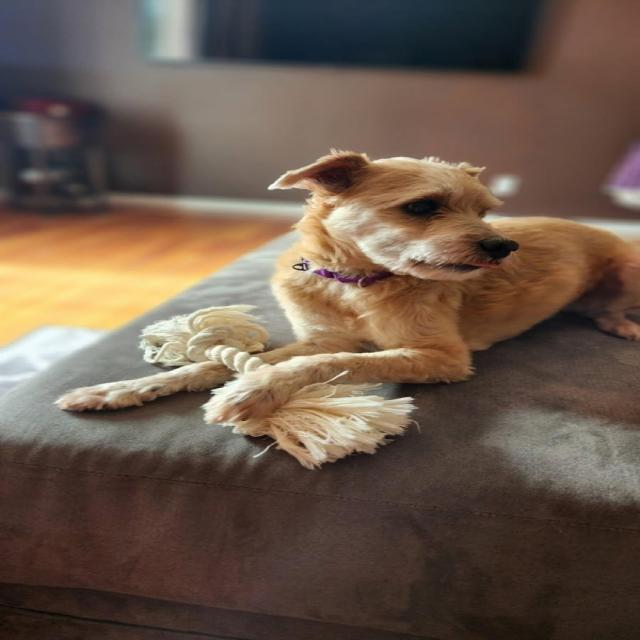shih_tzu_dog: (248, 143, 538, 305)
